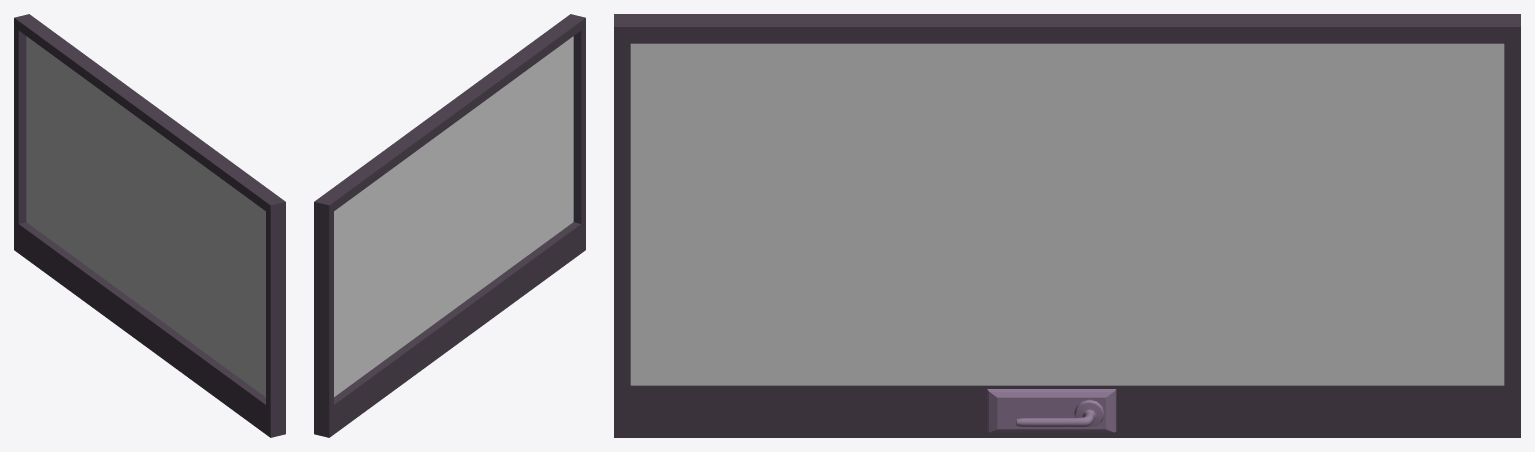
File: max_window_uv.fbx
3 renders of one model, left to right at view 1: azimuth 30°, elevation 25°; view 2: azimuth 150°, elevation 25°; view 3: azimuth 270°, elevation 25°, orthographic. The views are drawn at different scales.
Parts seen in each view (by area): view 1: Window_UV; view 2: Window_UV; view 3: Window_UV.
Boxes of the visible parts, x1,y1,x2,y2 form: Window_UV: [14, 14, 285, 437]; Window_UV: [314, 14, 585, 437]; Window_UV: [614, 14, 1520, 437].
Bounding box in the file's own units: 0.1436 × 1 × 2.
